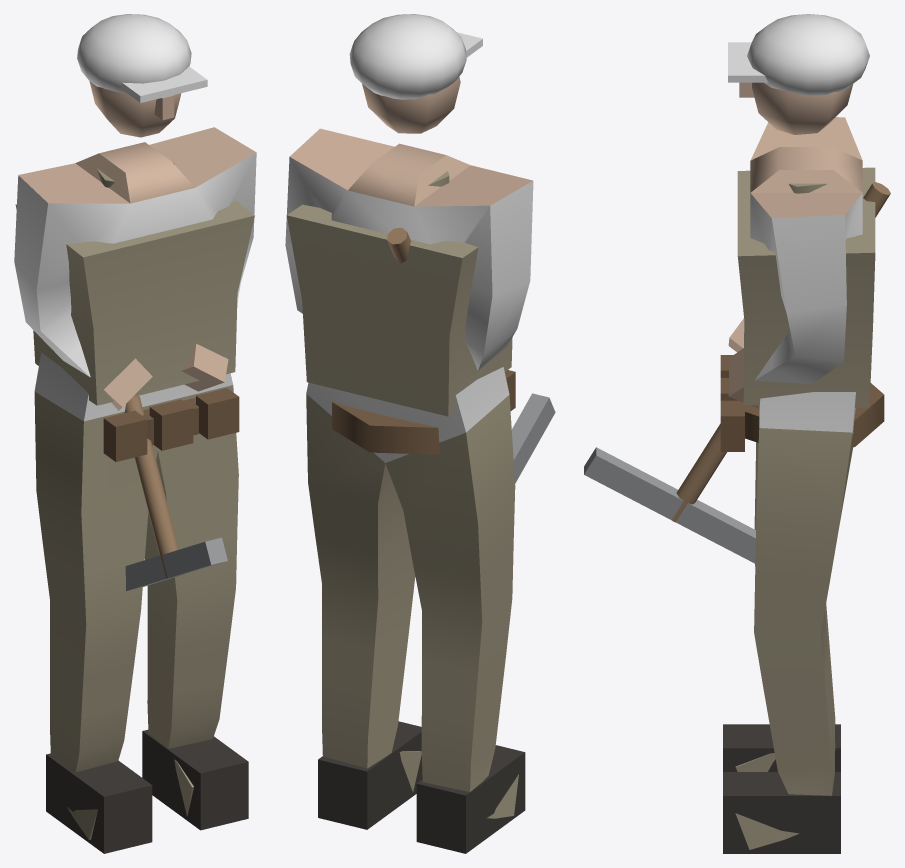
File: citizen_lod1.glb
The picture shows the model from 3 angles, left to right: view 1: azimuth 30°, elevation 25°; view 2: azimuth 150°, elevation 25°; view 3: azimuth 270°, elevation 25°; orthographic projection. The views are drawn at different scales.
Parts seen in each view (by area): view 1: body; view 2: body; view 3: body.
Part boxes in pixels (left/top/right/bottom): body: left=14, top=14, right=256, bottom=853; body: left=285, top=14, right=555, bottom=853; body: left=584, top=14, right=890, bottom=853.
Size of the model in its own units: 0.518 by 1.79 by 0.6242.
